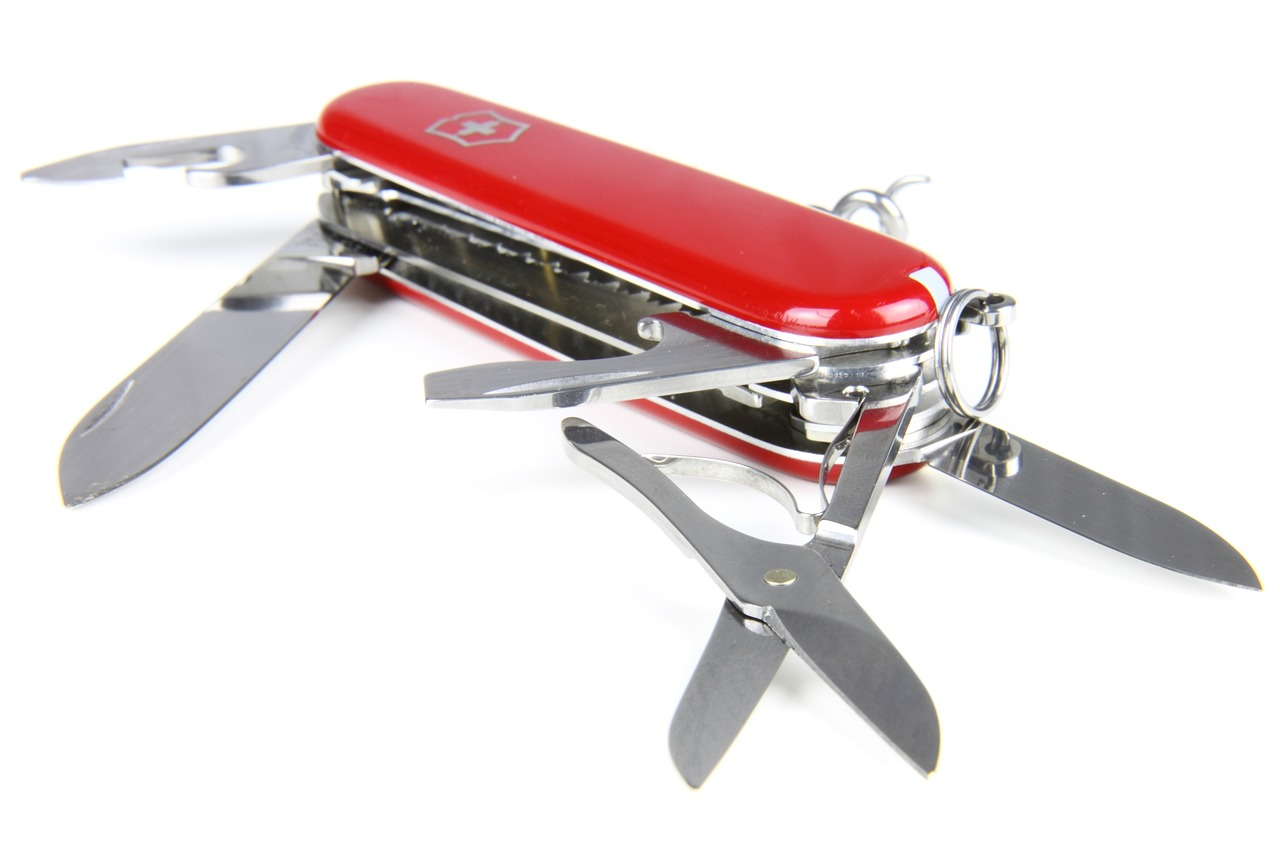knife: (51, 216, 367, 511), (919, 416, 1265, 593), (412, 312, 817, 411), (14, 119, 354, 187)
